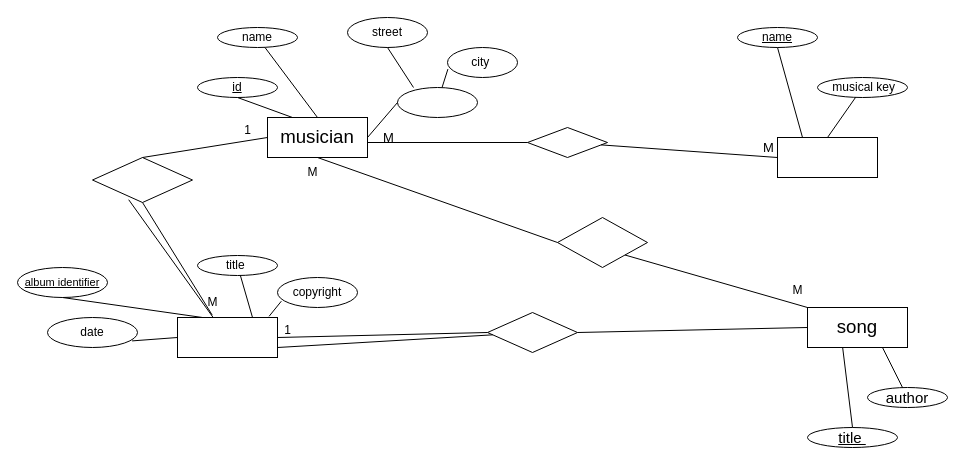
This 965x465 diagram has some shape labels left out. Here are the shapes that lost their labels. From the top down, the centre of each, then its label:
At [437,102]: "adress".
At [567,142]: "play".
At [827,157]: "instrument".
At [142,179]: "producer".
At [602,242]: "performed".
At [227,337]: "album".
At [532,332]: "has".
